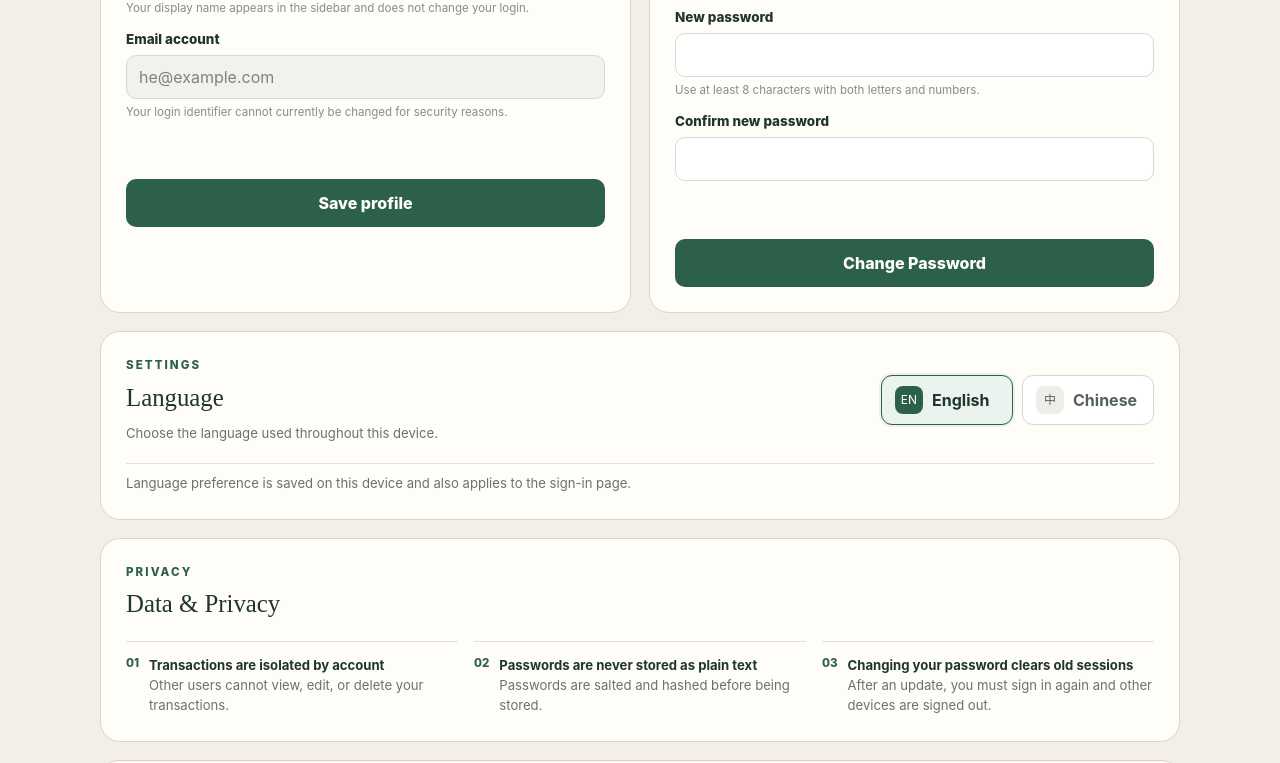
Test: ProfileView › 切换语言后立即更新界面并保存偏好
(page scrolled)
What coordinates should you click on to do the following:
click the button "中 Chinese"
I would click on:
 (1088, 400)
Its box is x1=1022 y1=375 x2=1154 y2=425.
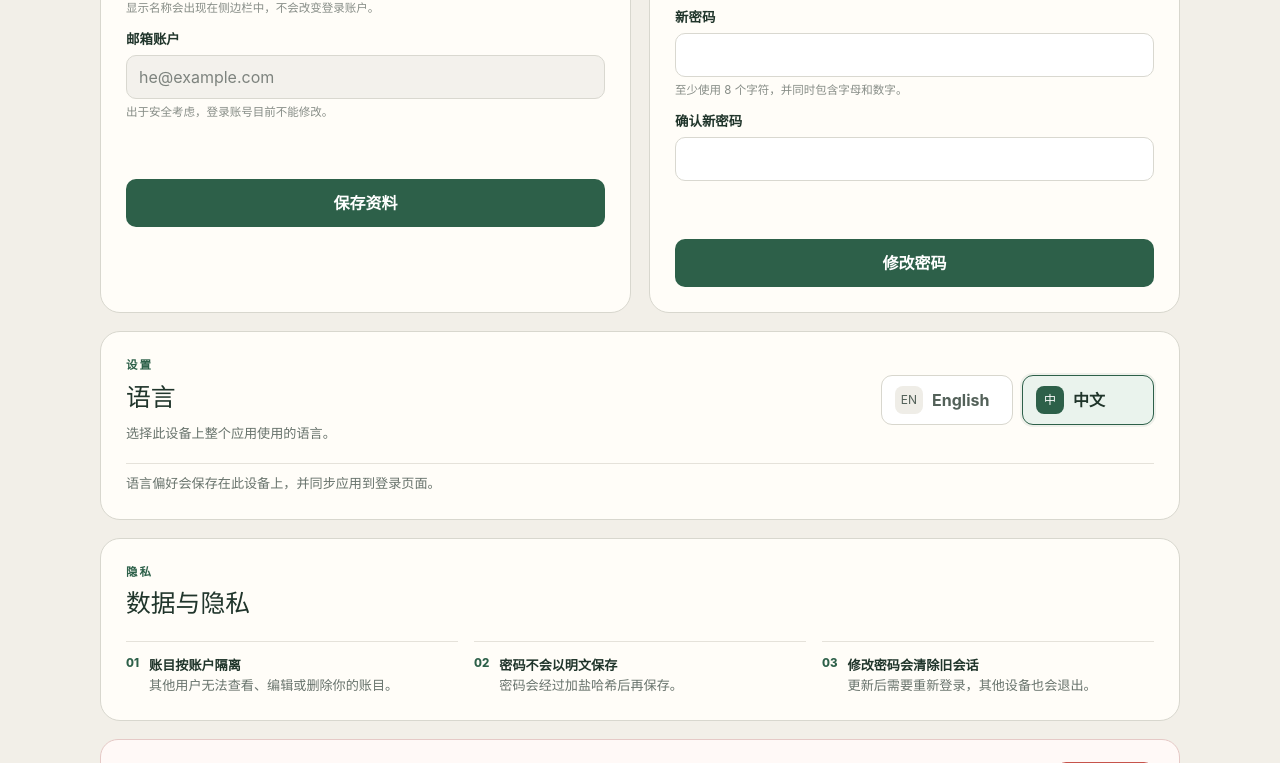
Check: the text "修改密码" is shown, box x1=675 y1=239 x2=1154 y2=287
